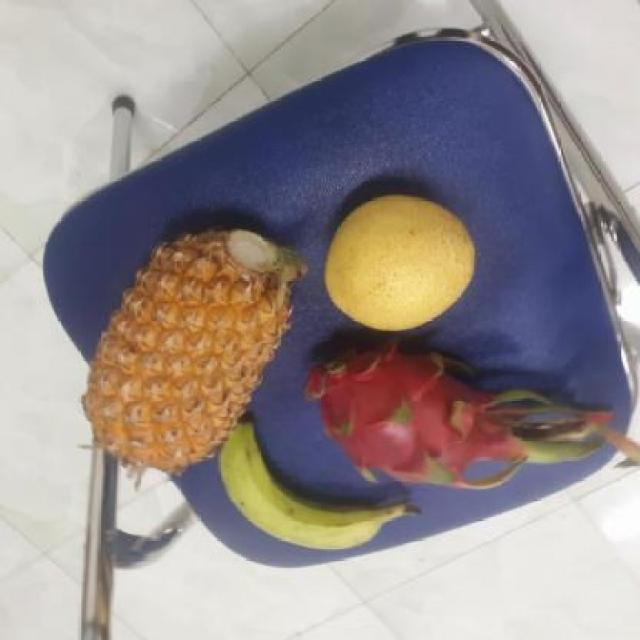banana: (215, 416, 392, 550)
dragon fruit: (299, 334, 518, 486)
pear: (318, 192, 480, 330)
pineapple: (79, 226, 299, 466)
